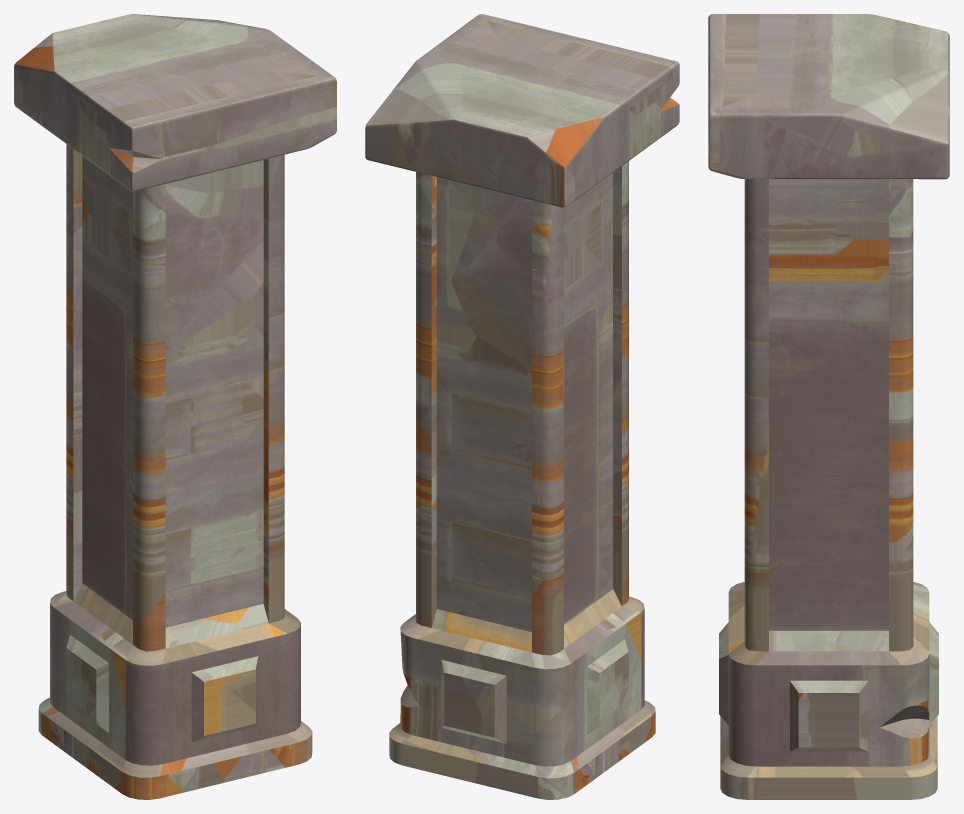
Rendered from Colonne_muret.fbx.
3 renders of one model, left to right at view 1: azimuth 30°, elevation 25°; view 2: azimuth 150°, elevation 25°; view 3: azimuth 270°, elevation 25°, orthographic. The views are drawn at different scales.
Visible parts, largest first — view 1: pierre_dessus_low2; view 2: pierre_dessus_low2; view 3: pierre_dessus_low2.
Boxes of the visible parts, x1=… form: pierre_dessus_low2: x1=14, y1=14, x2=336, y2=799; pierre_dessus_low2: x1=365, y1=14, x2=679, y2=799; pierre_dessus_low2: x1=708, y1=14, x2=949, y2=799.
Bounding box in the file's own units: 0.5855 × 1.85 × 0.5855.
